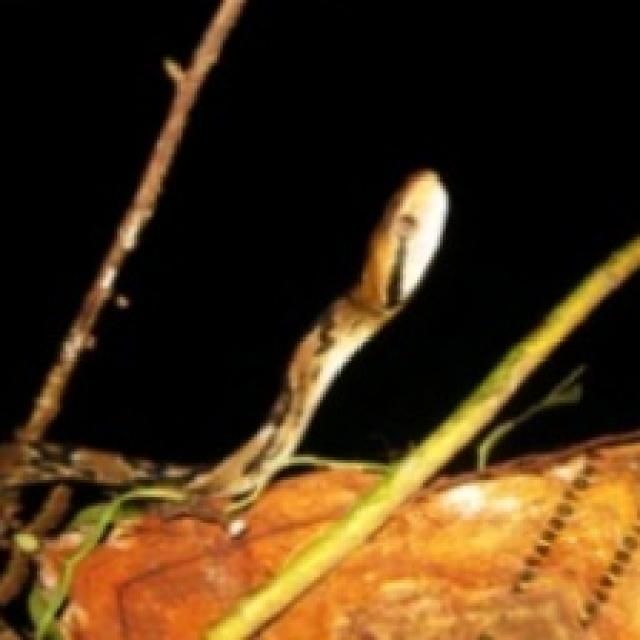dog-toothed cat snake: (29, 171, 446, 637)
